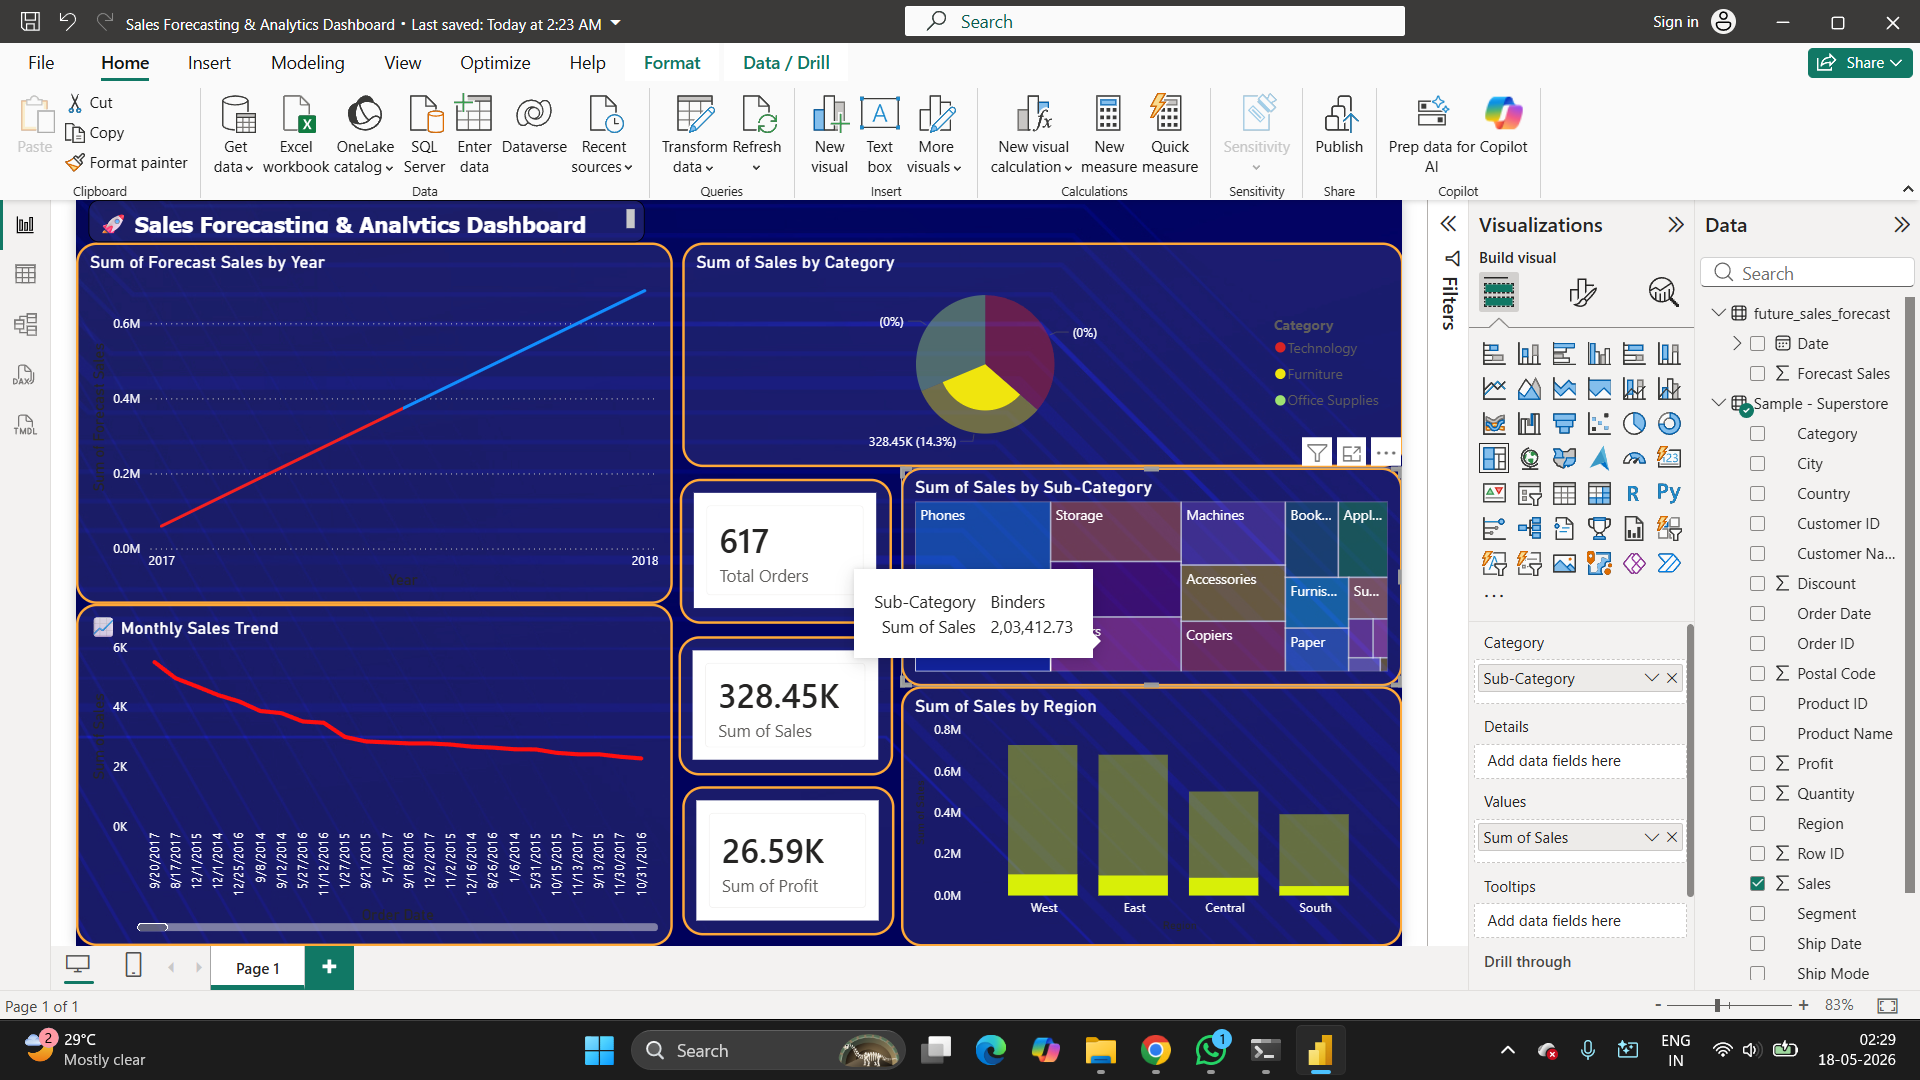

What the dashboard file says about the page in this screenshot:
{"tool":"powerbi","page":{"name":"Page 1","canvas":[1280,720],"ordinal":0},"visuals":[{"type":"cardVisual","fields":{"Data":["Sum(Sample - Superstore.Profit)"]},"box":[1064.8,5.5,204.5,150.9],"z":0},{"type":"cardVisual","fields":{"Data":["Sum(Sample - Superstore.Sales)"]},"box":[886.5,5.5,168.8,150.9],"z":1000},{"type":"cardVisual","fields":{"Data":["Sample - Superstore.Total Orders"]},"box":[712.2,5.5,168.8,150.9],"z":2000},{"type":"lineChart","title":"📈 Monthly Sales Trend","fields":{"Category":["Sample - Superstore.Order Date"],"Y":["Sum(Sample - Superstore.Sales)"]},"box":[12.1,41,690.1,359.5],"z":3000},{"type":"clusteredColumnChart","fields":{"Category":["Sample - Superstore.Region"],"Y":["Sum(Sample - Superstore.Sales)"]},"box":[626.1,410.2,643,299.2],"z":4000},{"type":"pieChart","fields":{"Category":["Sample - Superstore.Category"],"Y":["Sum(Sample - Superstore.Sales)"]},"box":[226.8,410.2,386.1,299.2],"z":5000},{"type":"slicer","fields":{"Values":["Sample - Superstore.Sub-Category","Sample - Superstore.Sales"]},"box":[12.3,410.3,205.8,299.1],"z":6000},{"type":"areaChart","fields":{"Category":["future_sales_forecast.Date.Variation.Date Hierarchy.Year","future_sales_forecast.Date.Variation.Date Hierarchy.Month","future_sales_forecast.Date.Variation.Date Hierarchy.Day"],"Y":["Sum(future_sales_forecast.Forecast Sales)"]},"box":[711.8,160.5,557.4,240.1],"z":7000},{"type":"textbox","box":[12.3,0,536.5,41.2],"z":8000}]}

Visuals, with their boxes on the page's 1280x720 design canvas (x1, y1, x2, y2). These are canvas units, not pixel positions in the 1920x1080 screenshot, which may show the page scaled, cropped or inside an application window:
cardVisual - Sum(Sample - Superstore.Profit): bbox(1065, 6, 1269, 156)
cardVisual - Sum(Sample - Superstore.Sales): bbox(886, 6, 1055, 156)
cardVisual - Sample - Superstore.Total Orders: bbox(712, 6, 881, 156)
"📈 Monthly Sales Trend" lineChart: bbox(12, 41, 702, 400)
clusteredColumnChart - Sample - Superstore.Region x Sum(Sample - Superstore.Sales): bbox(626, 410, 1269, 709)
pieChart - Sample - Superstore.Category x Sum(Sample - Superstore.Sales): bbox(227, 410, 613, 709)
slicer - Sample - Superstore.Sub-Category x Sample - Superstore.Sales: bbox(12, 410, 218, 709)
areaChart - future_sales_forecast.Date.Variation.Date Hierarchy.Year x future_sales_forecast.Date.Variation.Date Hierarchy.Month: bbox(712, 160, 1269, 401)
textbox: bbox(12, 0, 549, 41)
